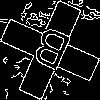B: (25, 25, 74, 80)
